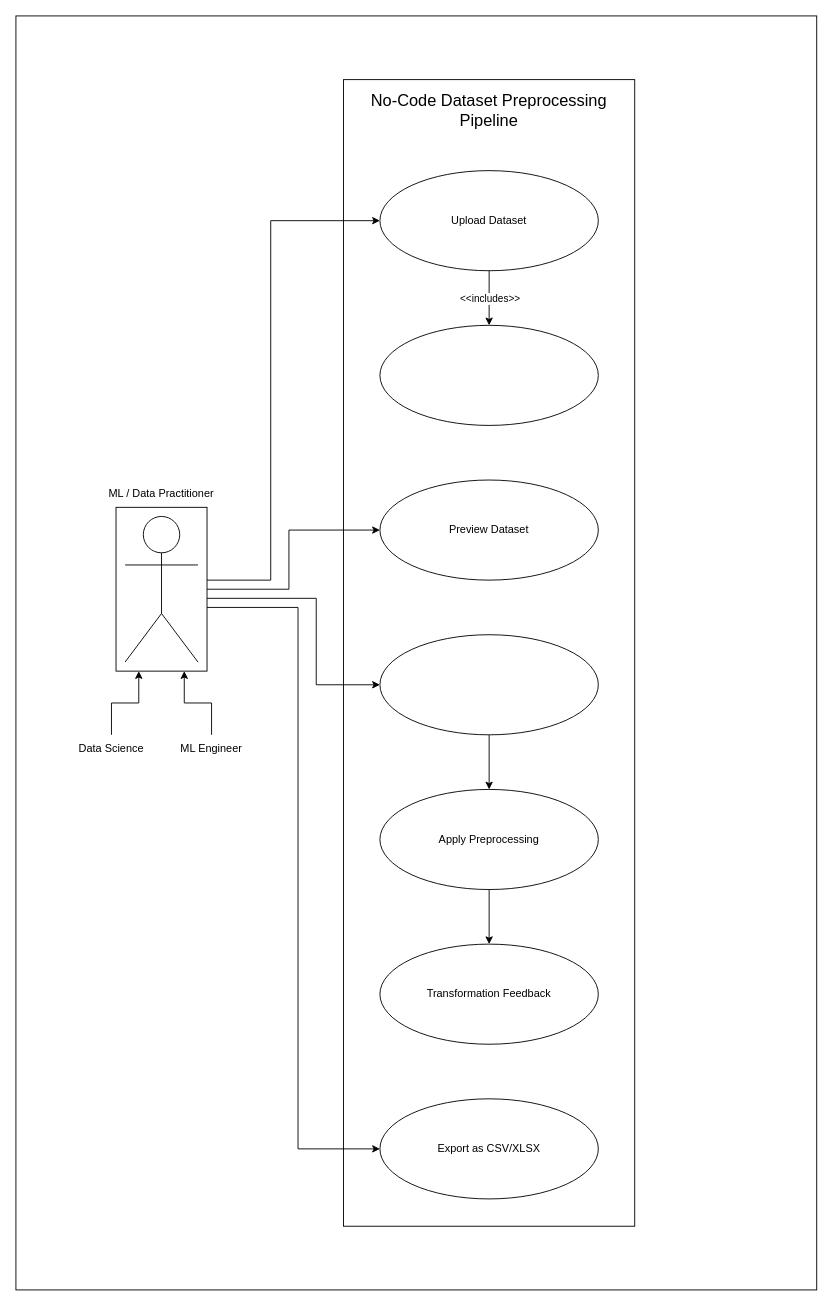
The diagram is 833 pixels wide and 1306 high, and some of its shapes have lost their labels. Here are the shapes that lost their labels. From the top down, the centre of each, then its label:
At point 488,374: "Validate Dataset".
At point 488,684: "Configure Preprocessing".
